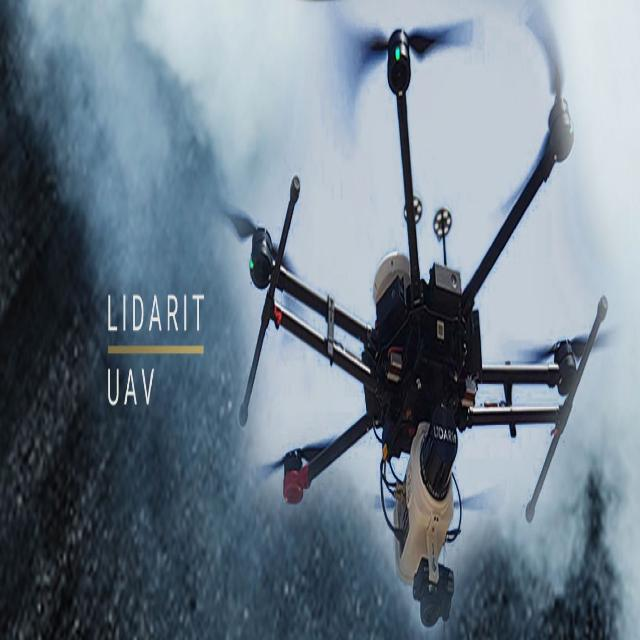drone: (216, 14, 622, 549)
